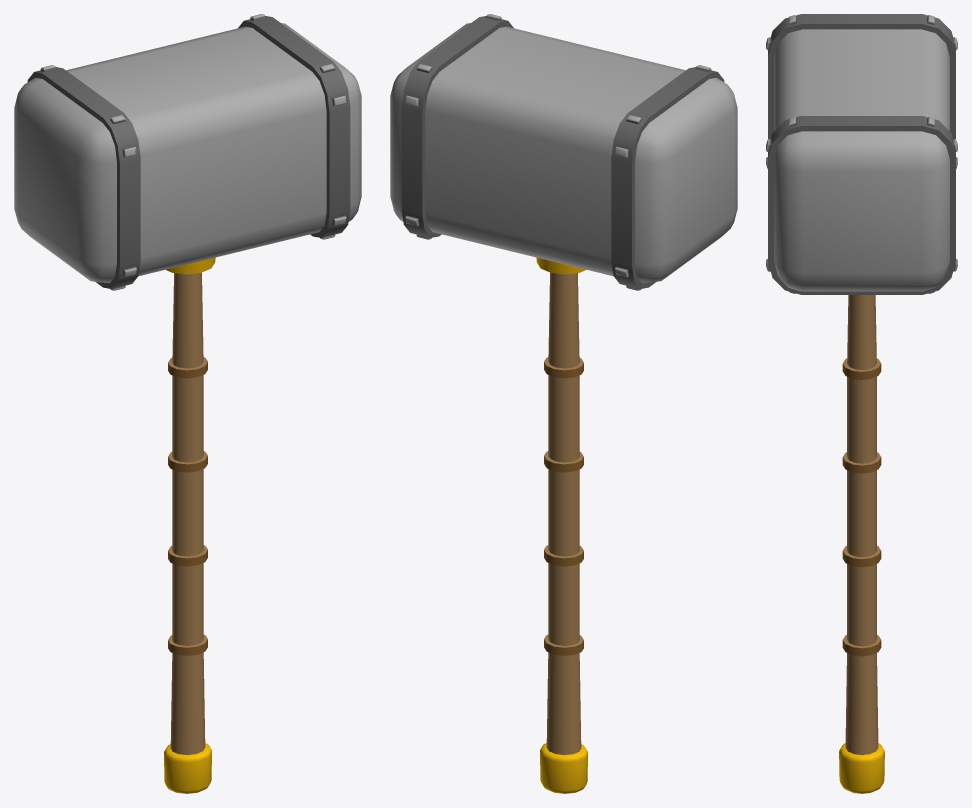
Rendered from Warhammer_2.fbx.
3 views of the same model, side by side, from view 1: azimuth 30°, elevation 25°; view 2: azimuth 150°, elevation 25°; view 3: azimuth 270°, elevation 25° (orthographic).
Parts seen in each view (by area): view 1: Warhammer_2; view 2: Warhammer_2; view 3: Warhammer_2.
Part boxes in pixels (<box>): Warhammer_2: <box>14,14,361,793</box>; Warhammer_2: <box>390,14,737,793</box>; Warhammer_2: <box>766,14,957,793</box>.
Bounding box in the file's own units: 0.1577 × 0.3885 × 0.0941.
